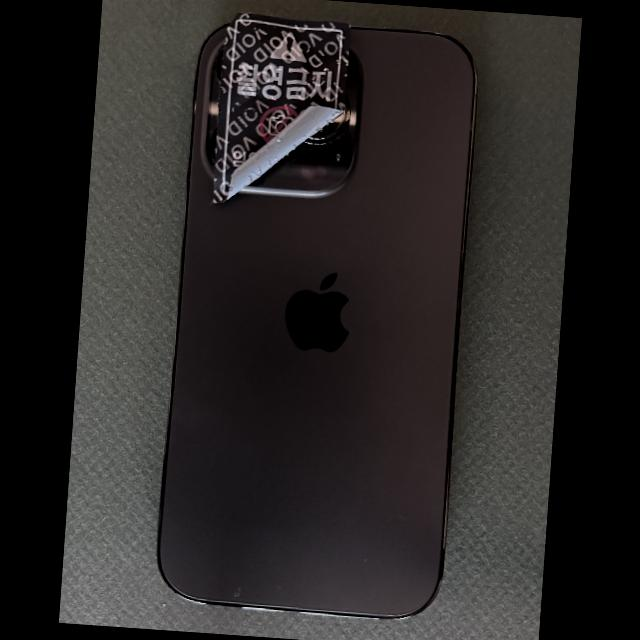lens: (304, 97, 350, 146)
phone: (156, 17, 479, 622)
sticker: (211, 11, 352, 204)
